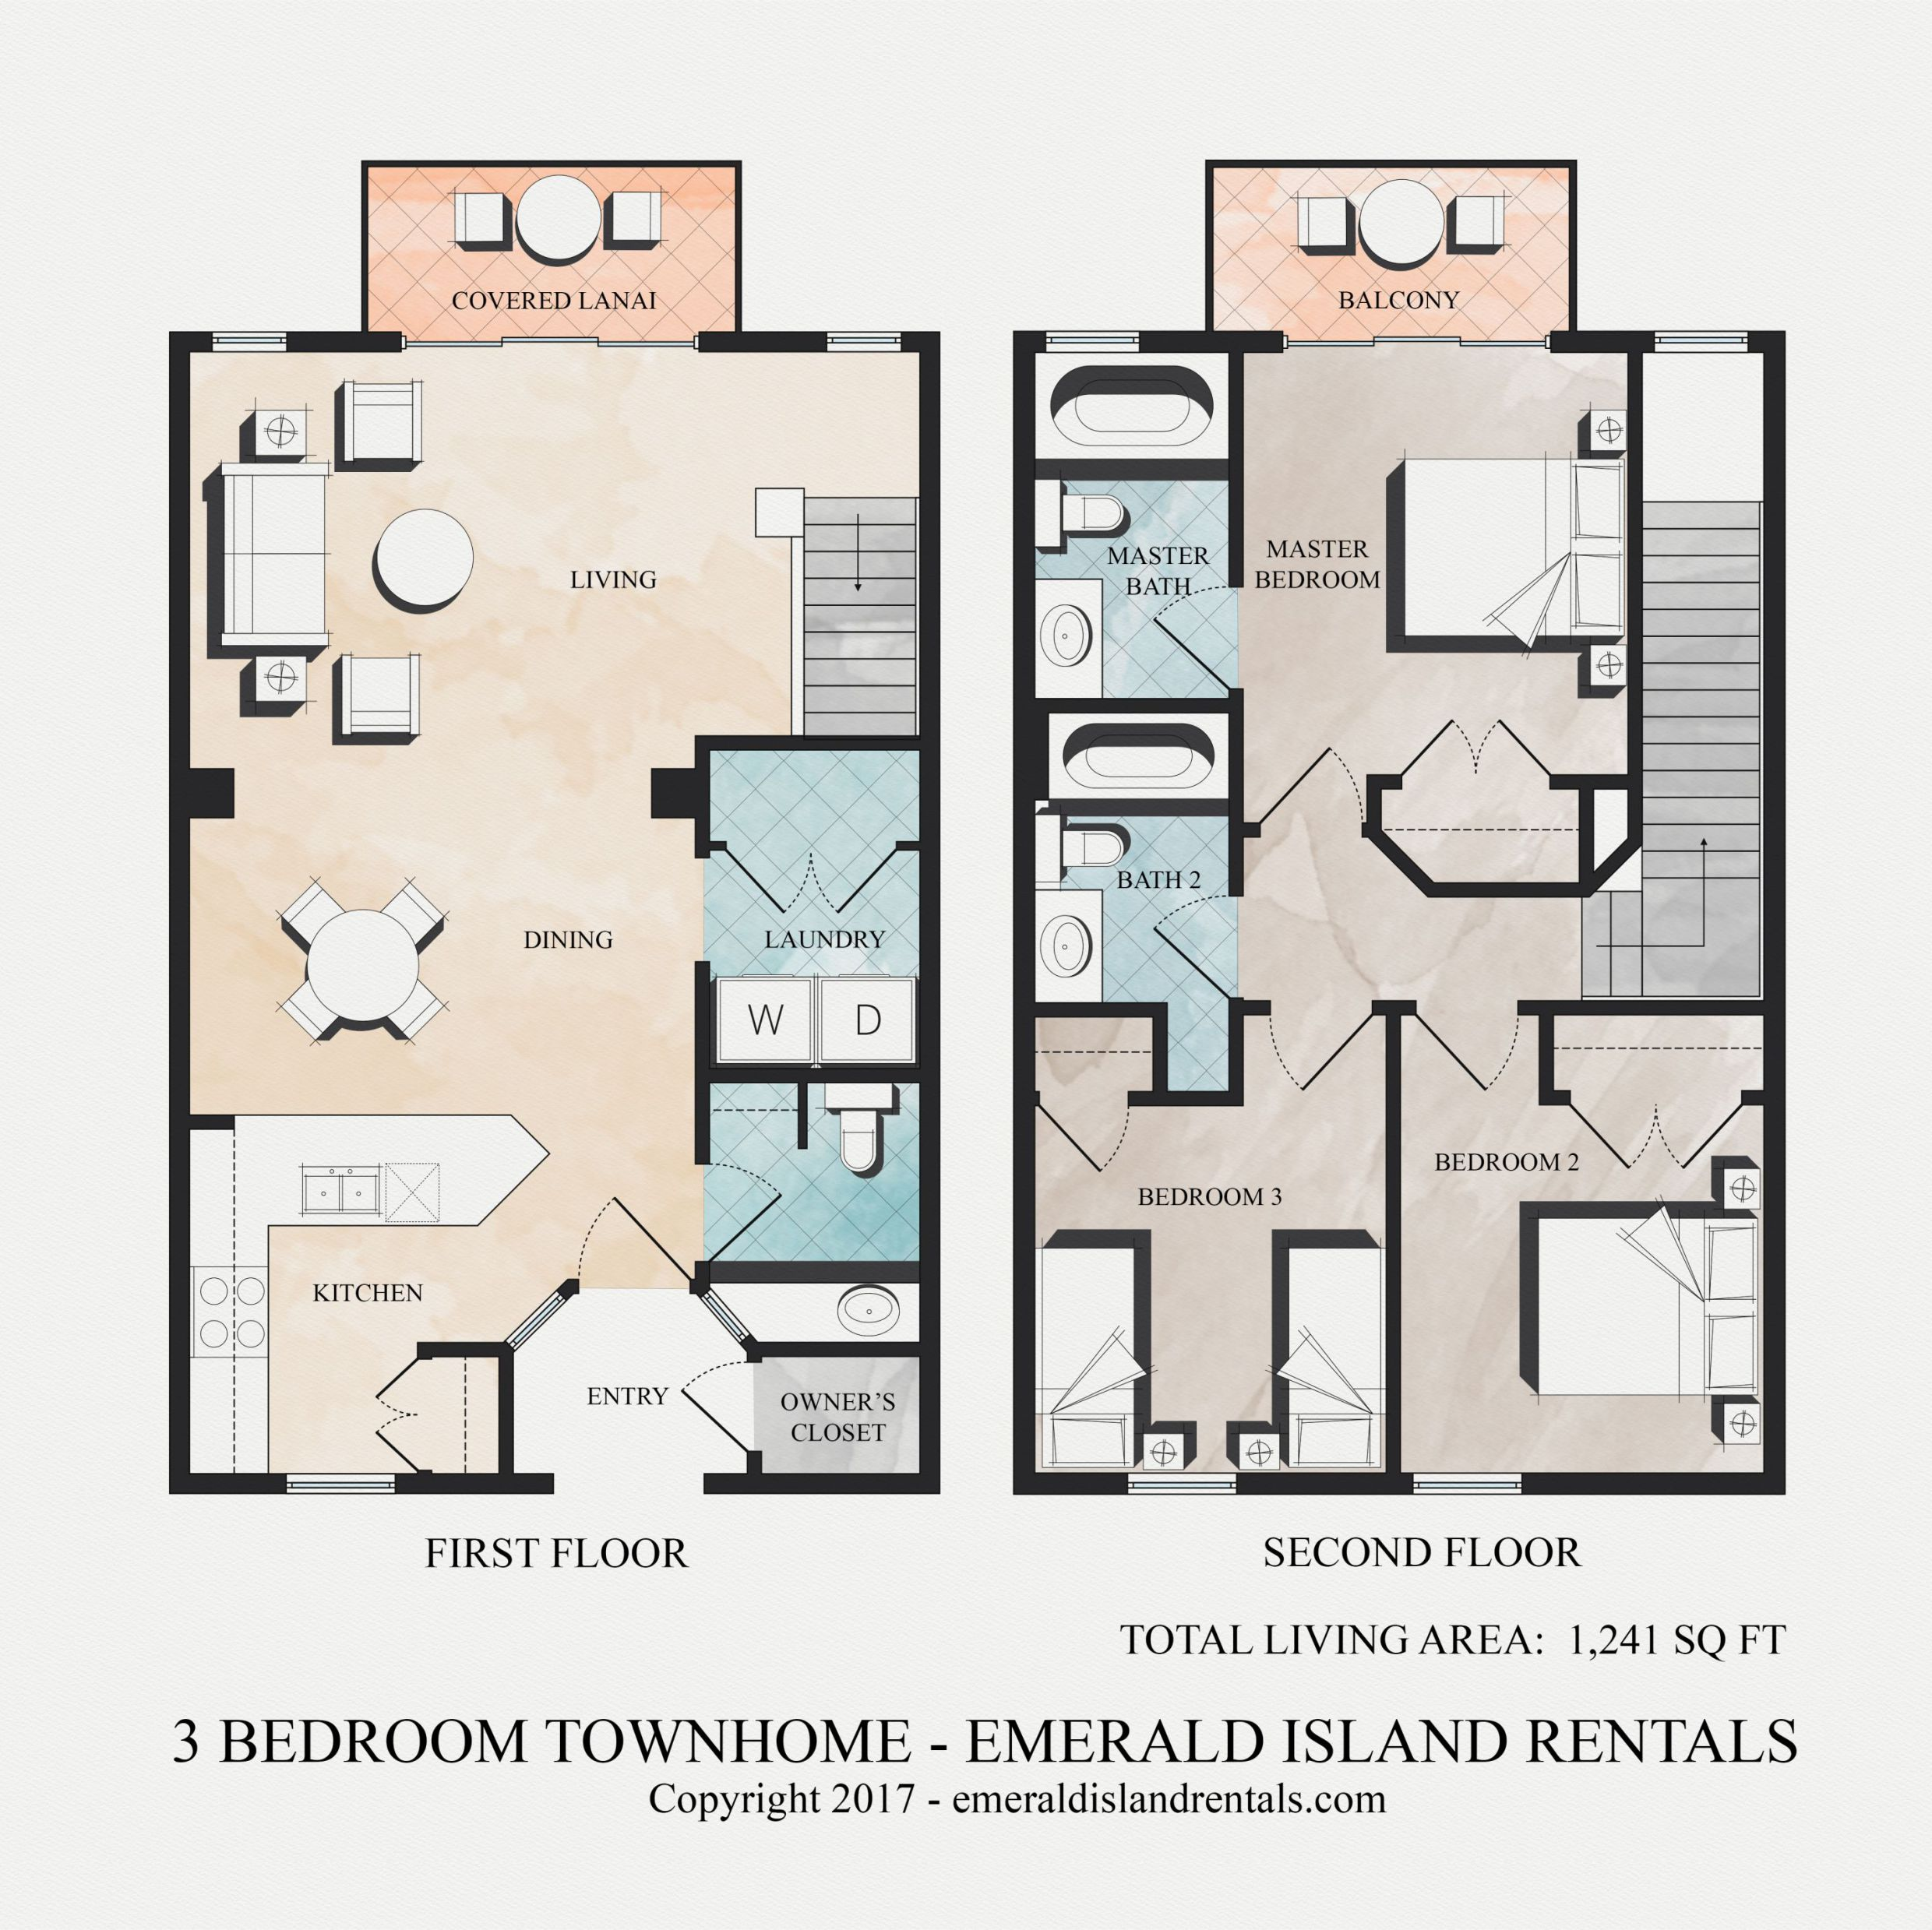window: (283, 1470, 401, 1499), (1124, 1470, 1243, 1499), (1045, 327, 1144, 357), (1649, 325, 1748, 355), (822, 327, 907, 355), (209, 329, 293, 355)
